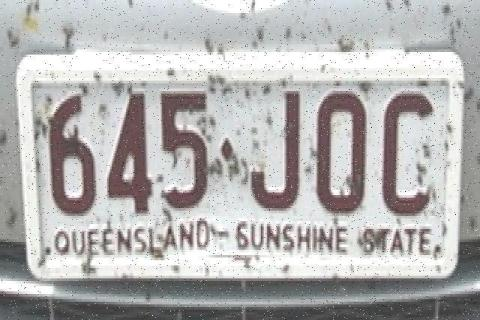LicensePlate: (10, 26, 464, 294)
